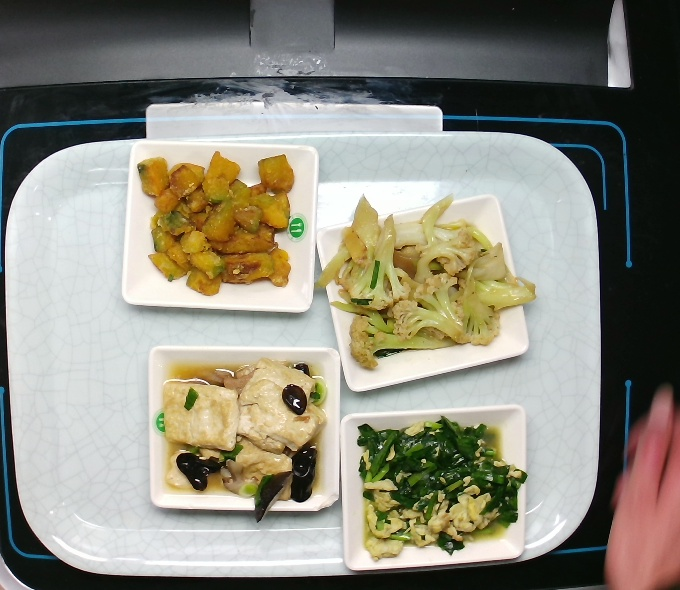wcq-DanHuangNanGua: (126, 144, 313, 316)
wcq-JiaChangDouFu: (141, 355, 328, 525)
wcq-JiuCaiJiDan: (339, 403, 535, 562)
wcq-QiuCai: (319, 204, 539, 371)
